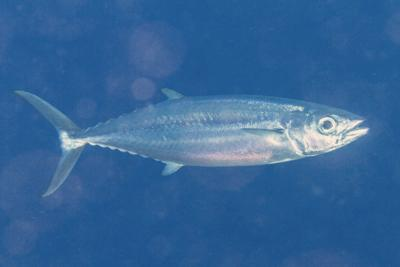Scombridae -Tunas-: (11, 86, 374, 201)
